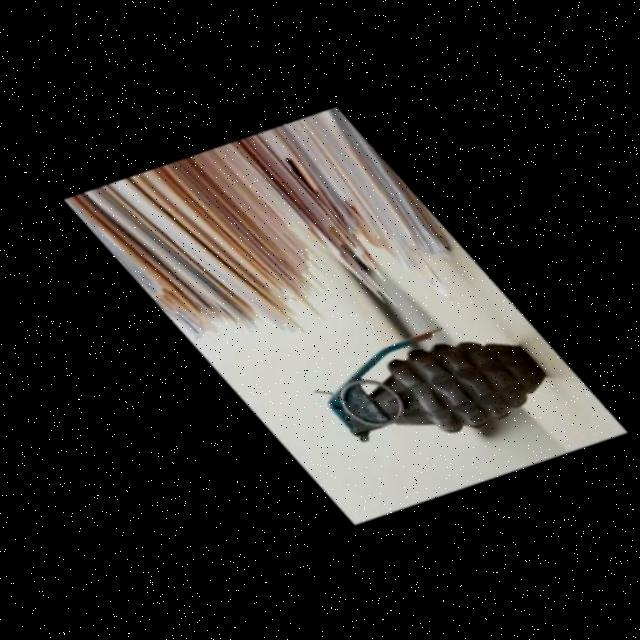grenade: (293, 282, 565, 500)
